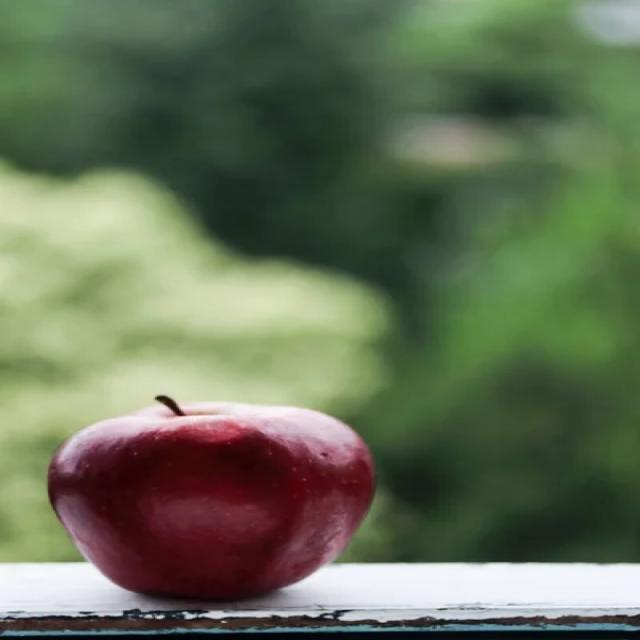Fresh Apple: (33, 400, 380, 607)
